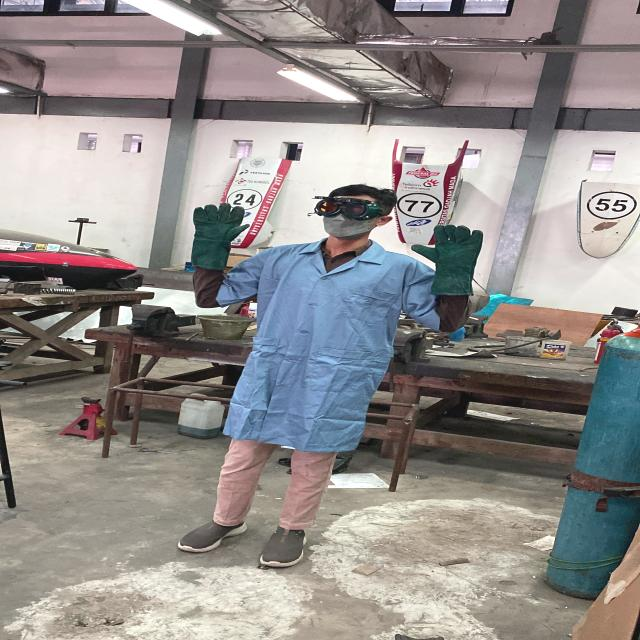face_mask: (311, 191, 382, 240)
glasses: (300, 190, 388, 222)
hand_glove: (402, 222, 492, 268), (186, 198, 255, 248)
head_nohelmet: (319, 178, 397, 206)
person: (160, 179, 486, 564)
shoes: (248, 516, 319, 574), (166, 515, 250, 555)
